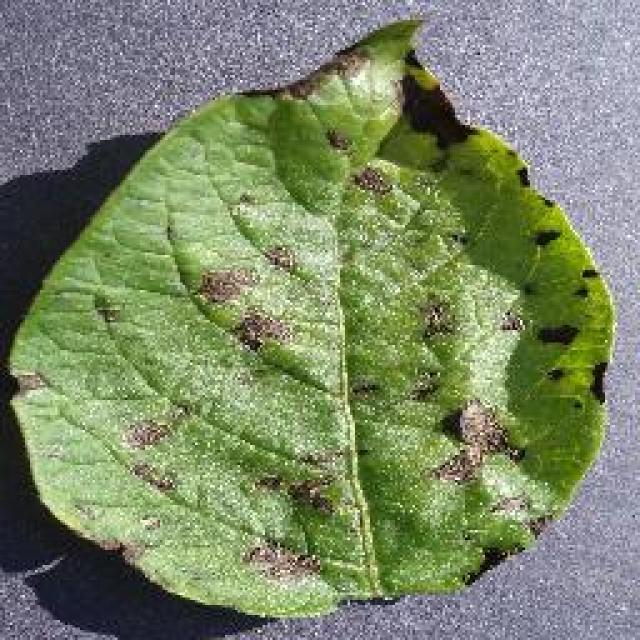early_blight: (2, 15, 620, 623)
